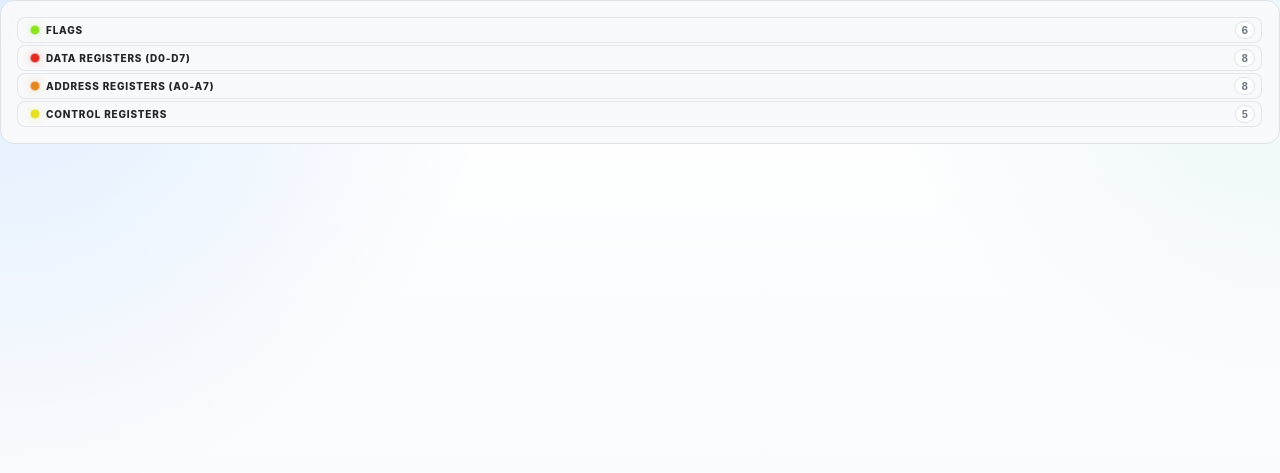
it: Registers › does not force the first nibble on the first mouse click into a later hex position
Click the button "Data Registers (D0-D7) 8" at x=118, y=58, box 17,45 -> 1262,71
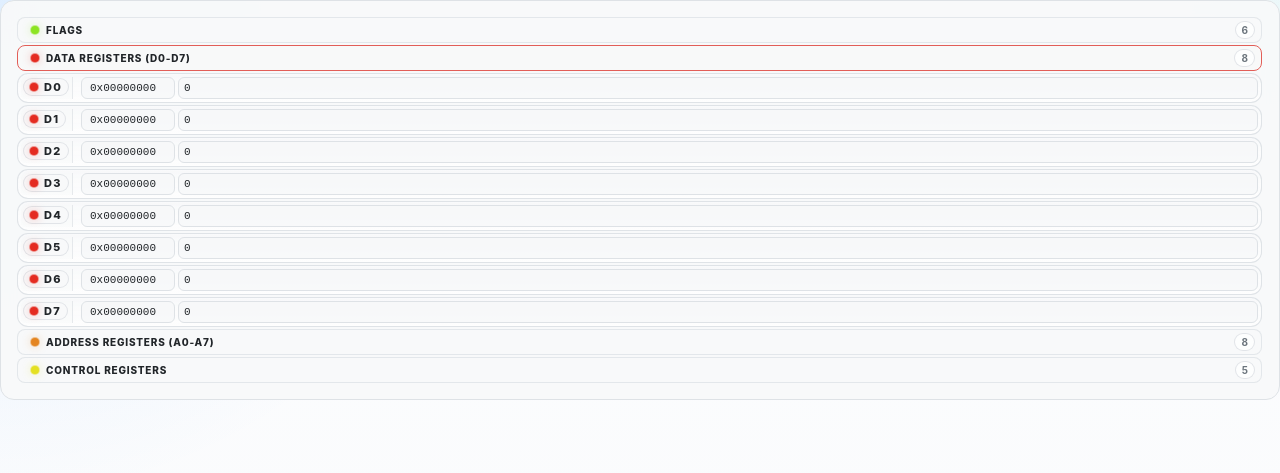
Click the button named "Toggle D0 register view" at x=46, y=87, box 23,78 -> 69,96
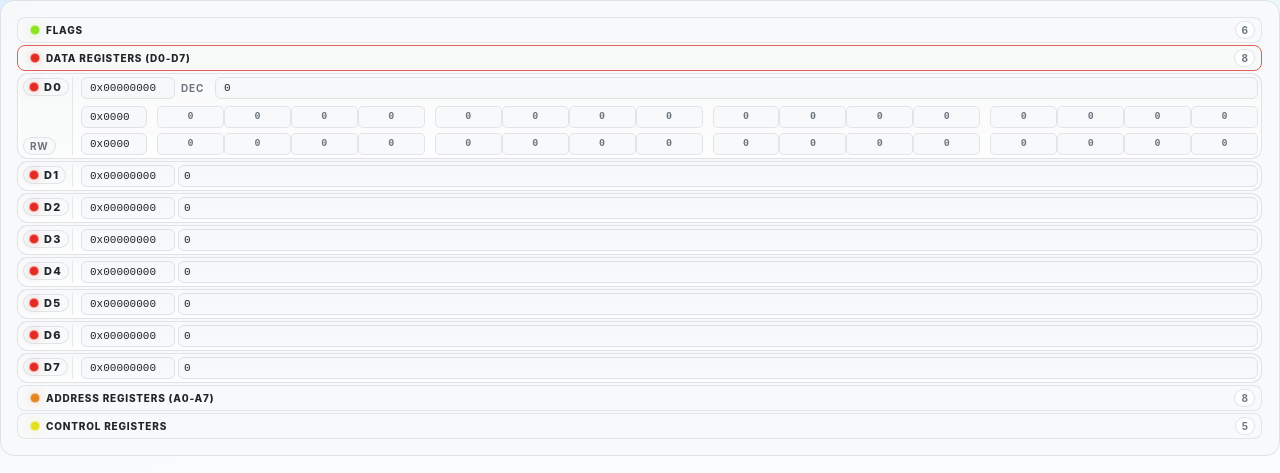
Press the mouse on the field named "D0 row 2 hex input" at x=114, y=144, box 81,133 -> 147,155
Focus the field named "D0 row 2 hex input" at x=114, y=144, box 81,133 -> 147,155
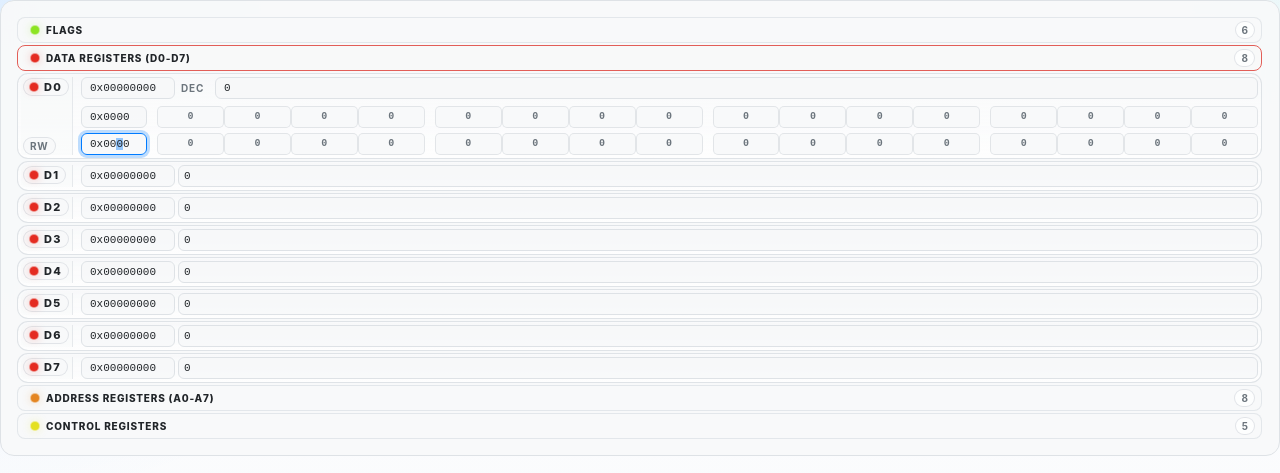
Press C in the field named "D0 row 2 hex input", box 81,133 -> 147,155
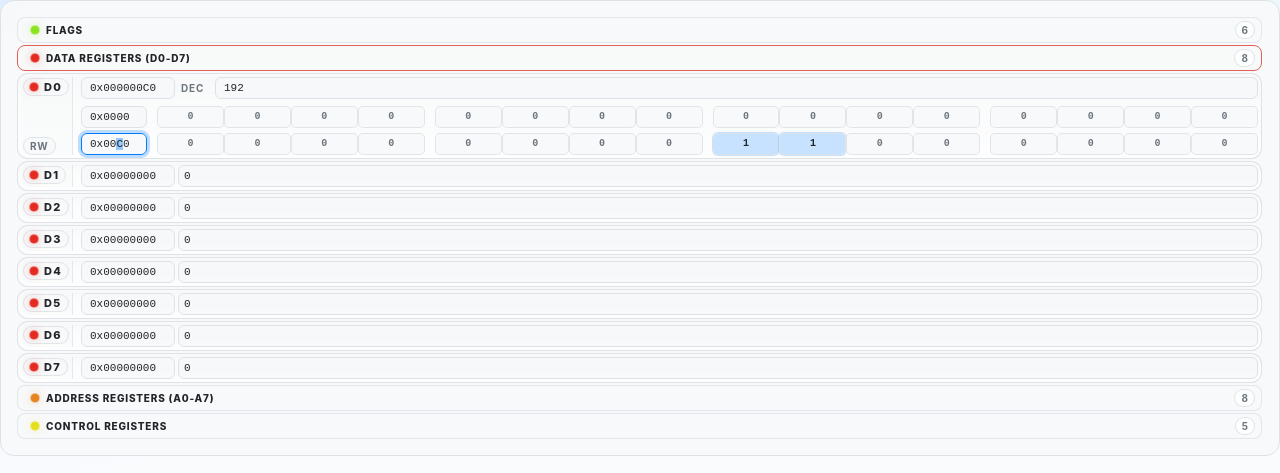
Now the field named "D0 row 2 hex input" holds "0x00C0", box 81,133 -> 147,155
